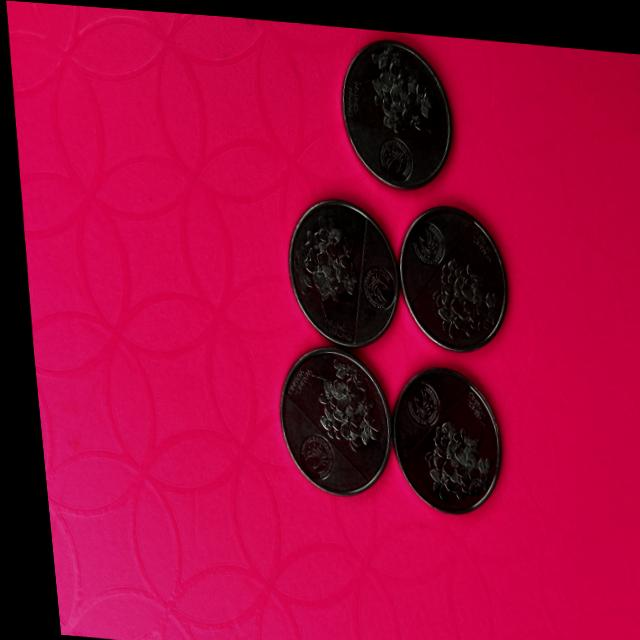1_New_Back: (277, 205, 361, 313), (417, 244, 504, 340), (291, 356, 376, 452), (352, 49, 443, 137), (406, 405, 488, 500)
